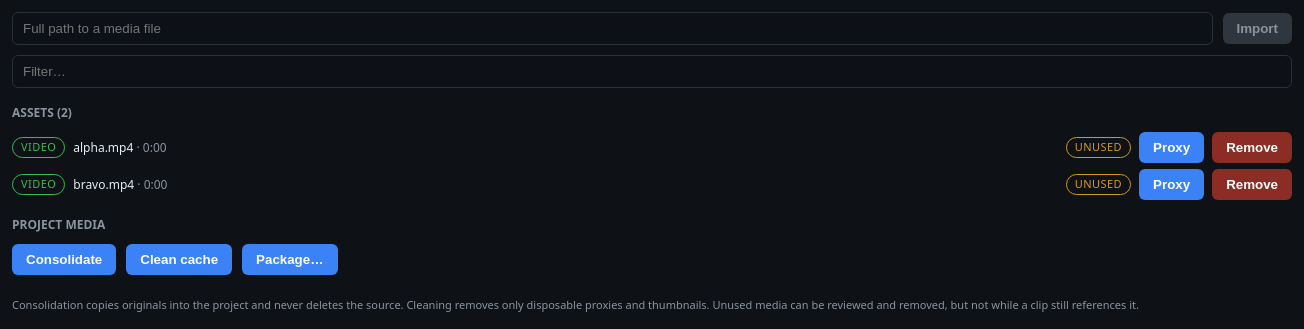
MediaBin › filters the asset list
Check: the text "alpha.mp4" is shown, box x1=73 y1=138 x2=133 y2=156
Type "brav" into the field named "Filter media".
click(652, 72); type("brav")  # box x1=12 y1=55 x2=1292 y2=88
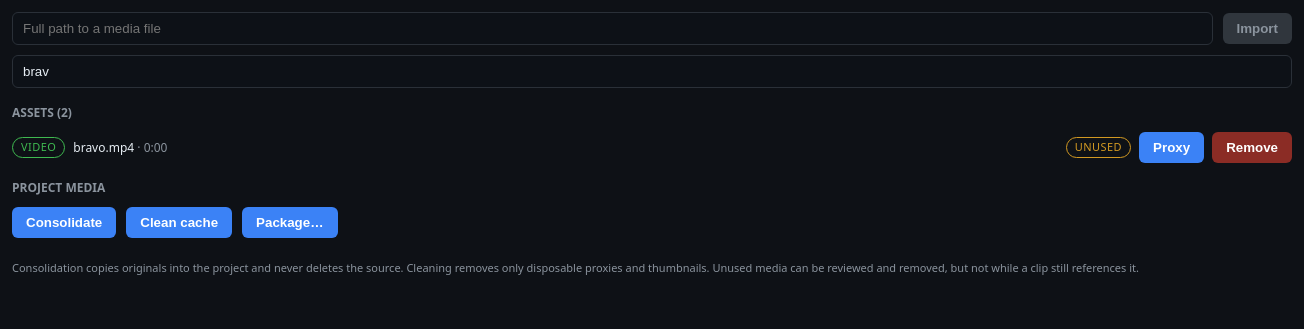
Check: the text "bravo.mp4" is shown, box x1=73 y1=138 x2=134 y2=156
Check: the text "alpha.mp4" is gone
